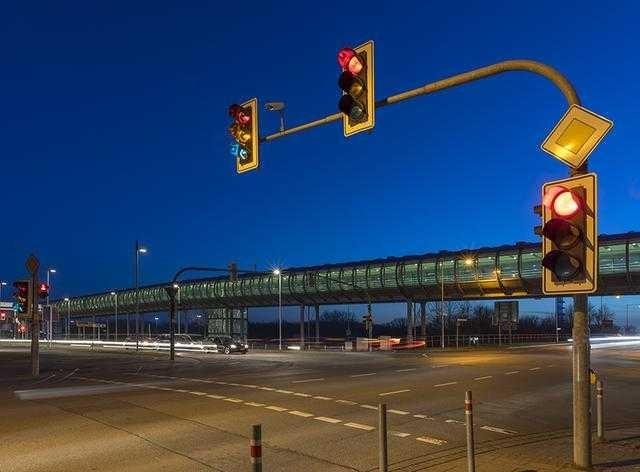red: (542, 180, 598, 289), (339, 46, 376, 127), (546, 182, 585, 218)
